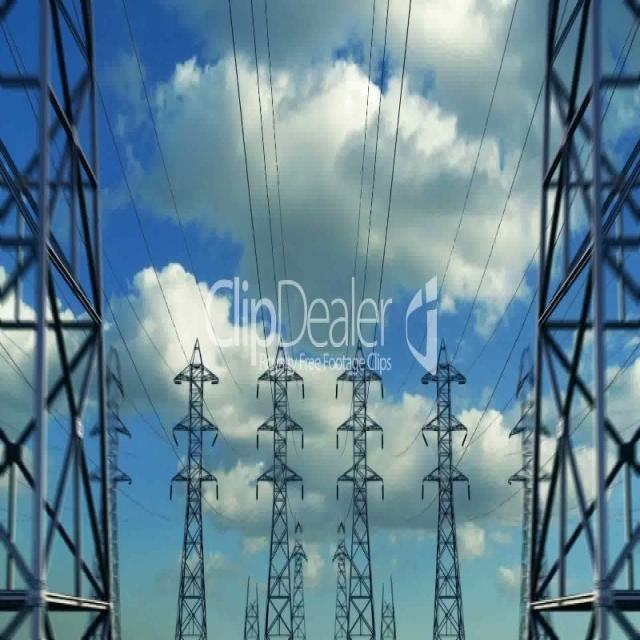non-critical vegetation: (4, 7, 109, 636), (530, 7, 636, 629), (336, 346, 382, 632), (423, 350, 464, 628), (174, 338, 212, 632), (266, 338, 302, 632)
